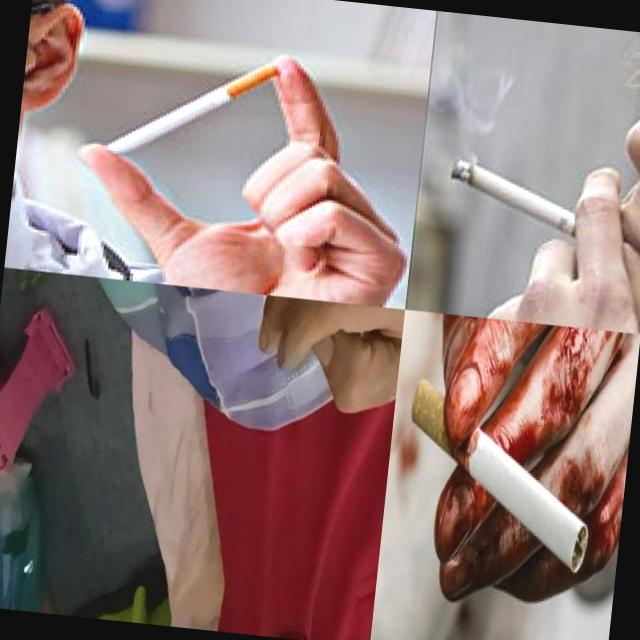cigarette: (394, 372, 604, 574), (106, 48, 282, 172), (443, 156, 622, 252)
